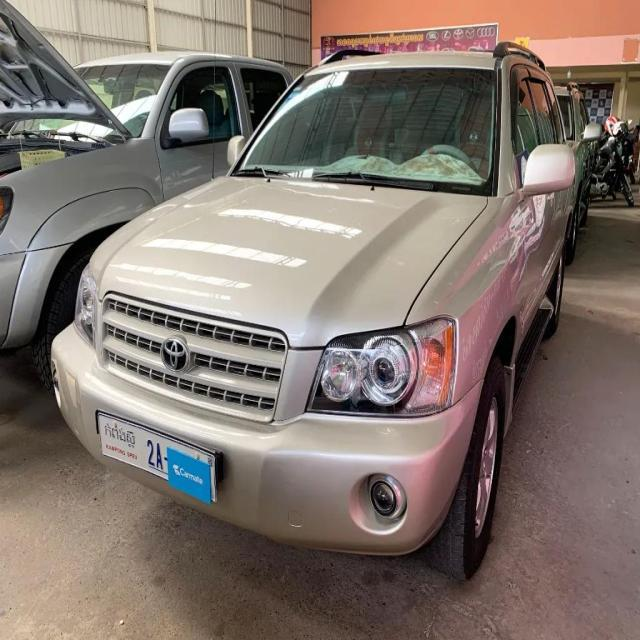Kampong_Speu: (105, 423, 137, 449)
